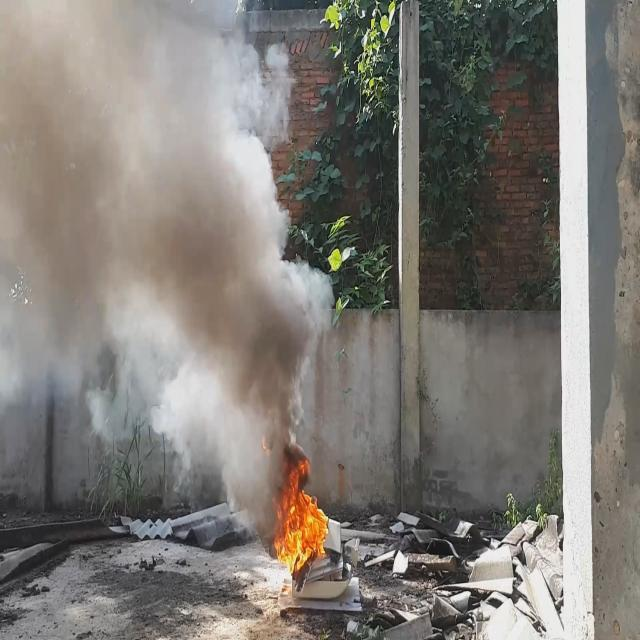Fire: (272, 440, 332, 582)
Smoke: (0, 0, 333, 553)
